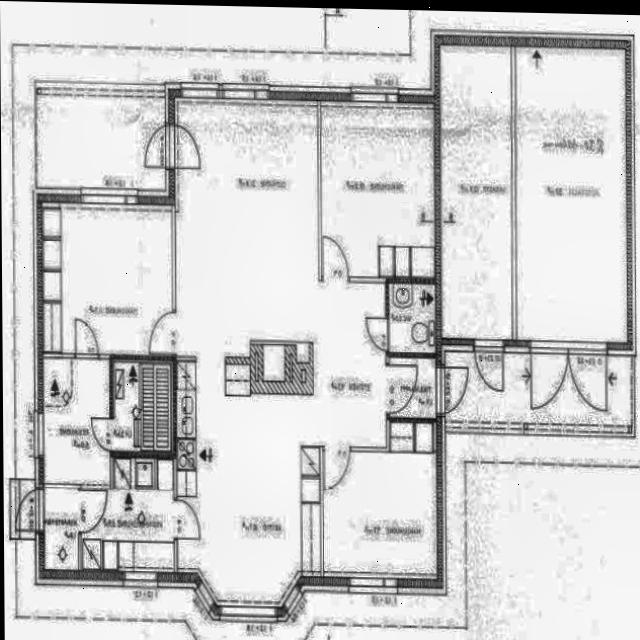room: (42, 205, 173, 353), (321, 106, 434, 276), (319, 417, 437, 578), (77, 456, 174, 572), (43, 356, 110, 486), (114, 361, 171, 450), (388, 283, 435, 352), (389, 356, 436, 418), (44, 486, 78, 568)
